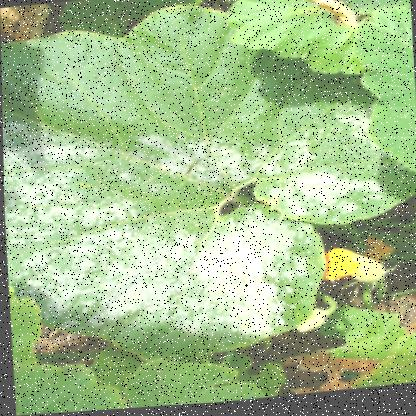PowderyMildew: (15, 114, 213, 302), (101, 220, 289, 347), (260, 117, 379, 218)
